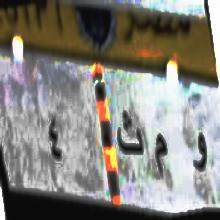4: (44, 106, 64, 169)
meem: (153, 131, 169, 186)
thaa: (117, 108, 144, 163)
waw: (189, 129, 209, 177)
